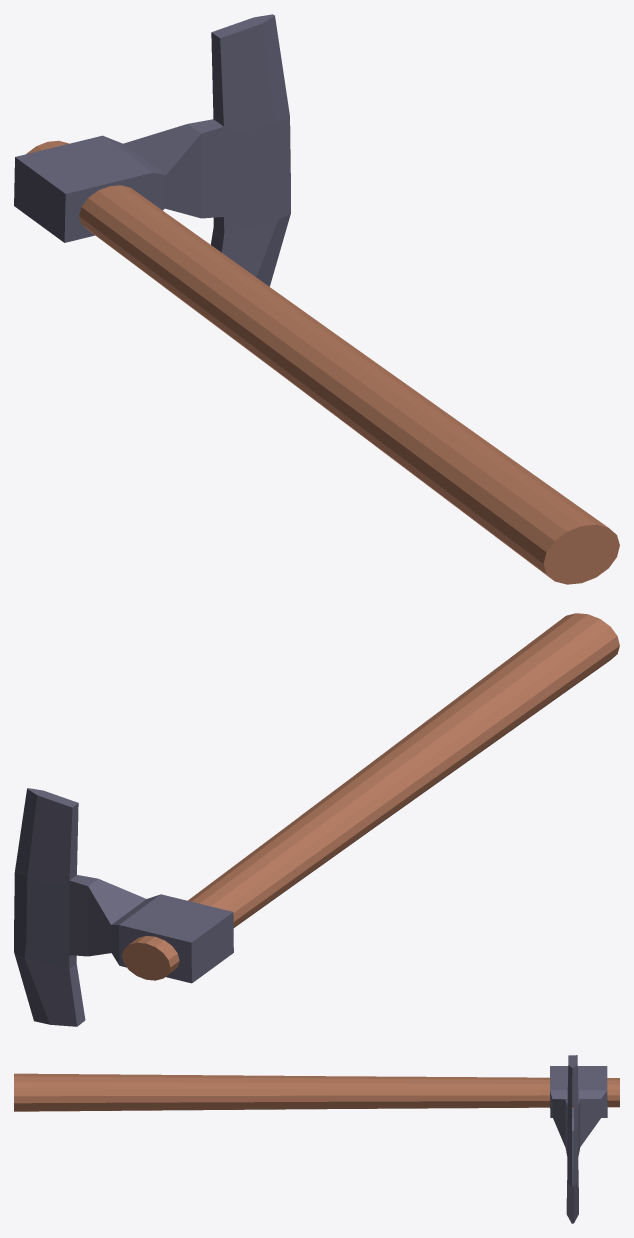
The model's file is SkarAxe.fbx.
3 renders of one model, top to bottom at view 1: azimuth 30°, elevation 25°; view 2: azimuth 150°, elevation 25°; view 3: azimuth 270°, elevation 25°, orthographic. The views are drawn at different scales.
Visible parts, largest first — view 1: SkarAxe; view 2: SkarAxe; view 3: SkarAxe.
Part boxes in pixels (x1,y1,x2,y2): SkarAxe: (14,14,619,584); SkarAxe: (14,613,619,1026); SkarAxe: (14,1055,619,1223).
Bounding box in the file's own units: 311 × 338 × 1173.
